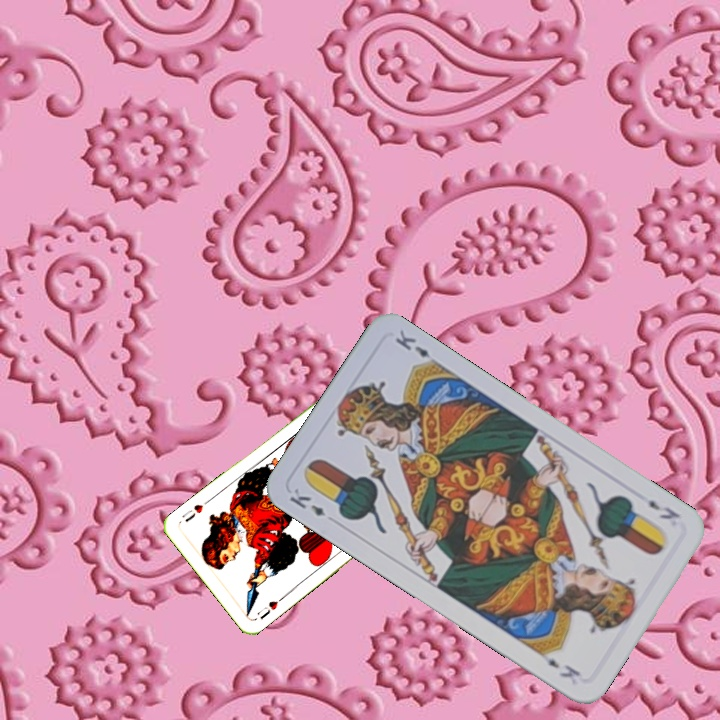EK: (285, 484, 328, 519), (644, 495, 683, 522)
HU: (253, 593, 286, 622)
